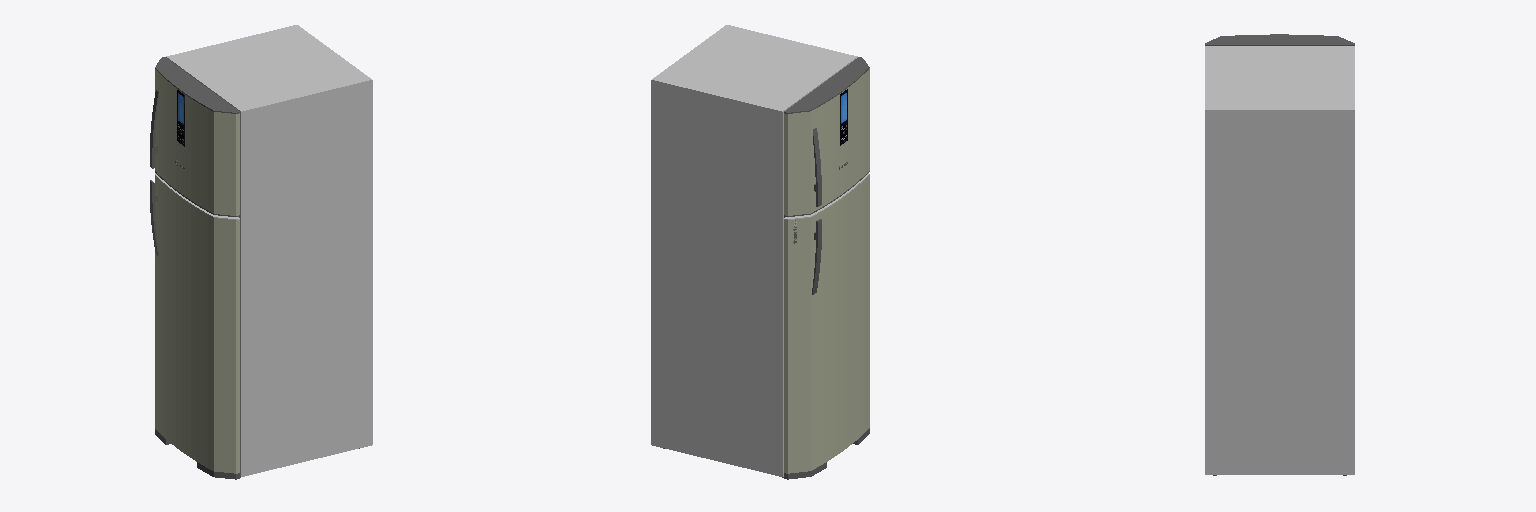
The picture shows the model from 3 angles: view 1: azimuth 30°, elevation 25°; view 2: azimuth 150°, elevation 25°; view 3: azimuth 270°, elevation 25°; orthographic projection.
Parts seen in each view (by area): view 1: Object_color_0.800000-0.800000-0.800000.jpg, Object_color_0.718400-0.727840-0.640000.jpg, Object_color_0.423520-0.423520-0.423520.jpg; view 2: Object_color_0.800000-0.800000-0.800000.jpg, Object_color_0.718400-0.727840-0.640000.jpg, Object_color_0.423520-0.423520-0.423520.jpg; view 3: Object_color_0.800000-0.800000-0.800000.jpg, Object_color_0.423520-0.423520-0.423520.jpg.
Part boxes in pixels (x1,y1,x2,y2): Object_color_0.800000-0.800000-0.800000.jpg: (155,25,372,476); Object_color_0.718400-0.727840-0.640000.jpg: (155,69,239,473); Object_color_0.423520-0.423520-0.423520.jpg: (150,57,359,479); Object_color_0.800000-0.800000-0.800000.jpg: (651,25,869,476); Object_color_0.718400-0.727840-0.640000.jpg: (784,68,869,473); Object_color_0.423520-0.423520-0.423520.jpg: (663,57,869,479); Object_color_0.800000-0.800000-0.800000.jpg: (1205,46,1354,474); Object_color_0.423520-0.423520-0.423520.jpg: (1205,34,1354,475).
Bounding box in the file's own units: 1.12 × 2.5 × 0.9242.
Materials: 5 (2 with a texture image).